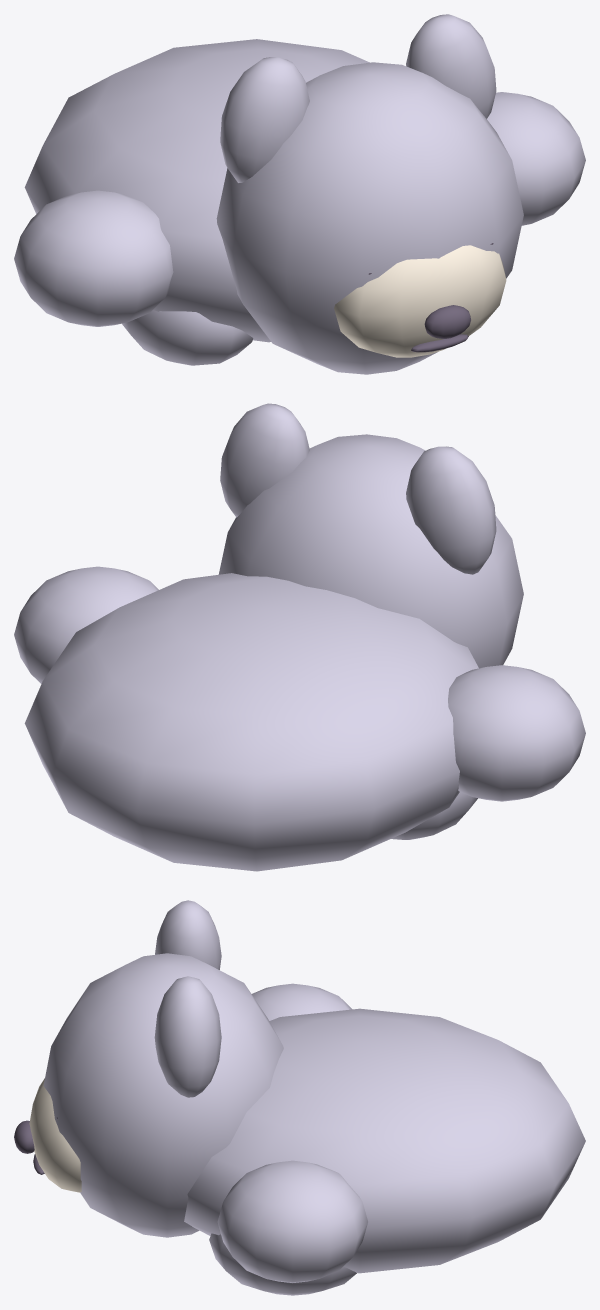
File: gorilla-reflection.glb
3 views of the same model, one above another, from view 1: azimuth 30°, elevation 25°; view 2: azimuth 150°, elevation 25°; view 3: azimuth 270°, elevation 25° (orthographic). The views are drawn at different scales.
Parts seen in each view (by area): view 1: gorilla reflection offline illustration; view 2: gorilla reflection offline illustration; view 3: gorilla reflection offline illustration.
Boxes of the visible parts, bbox=[...] form: gorilla reflection offline illustration: bbox=[14, 14, 585, 374]; gorilla reflection offline illustration: bbox=[14, 403, 585, 871]; gorilla reflection offline illustration: bbox=[14, 900, 585, 1295].
Size of the model in its own units: 0.68 by 0.3932 by 0.683.
